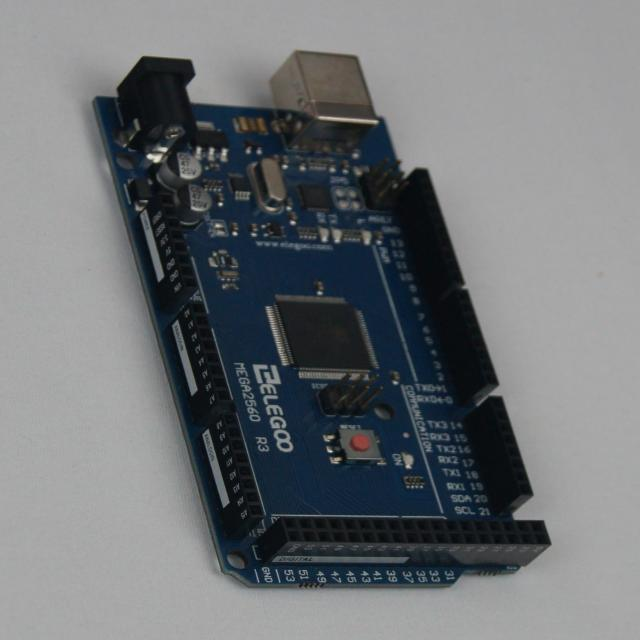Arduino Mega 2560 -Blue-: (96, 52, 549, 588)
